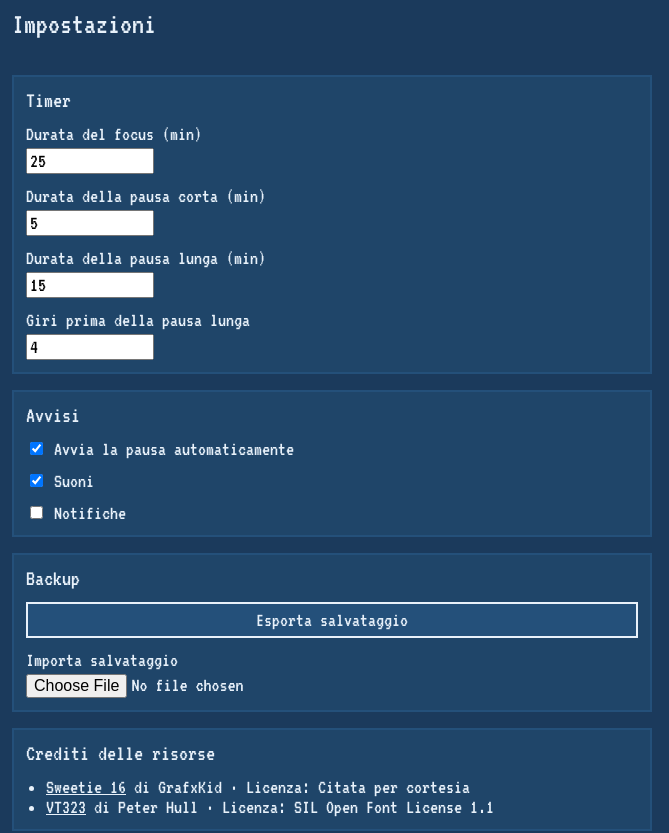
SettingsScreen › out-of-range duration is corrected
Replace the text in the number field labelled "Durata del focus (min)" with "0" at (90, 161), box [26,148,154,174]
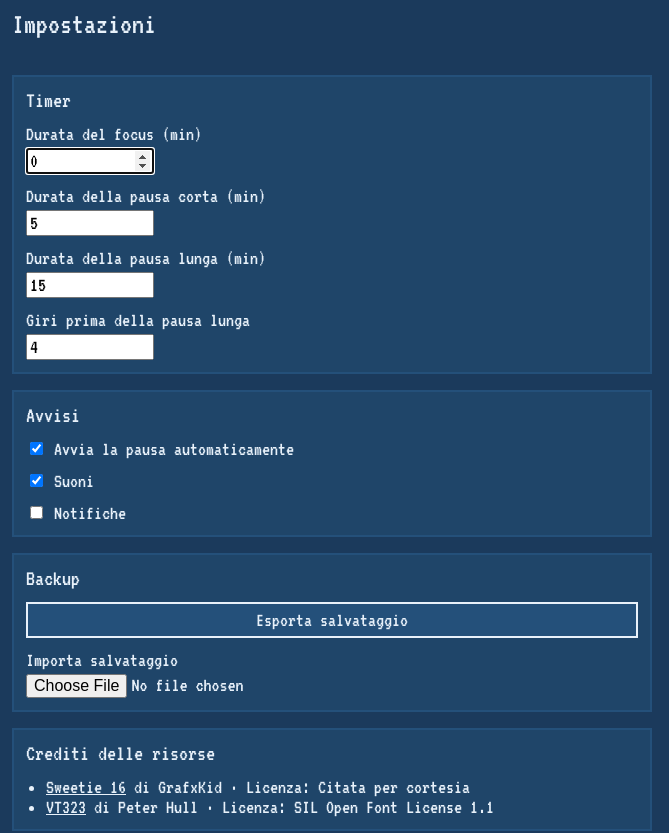
Press Tab
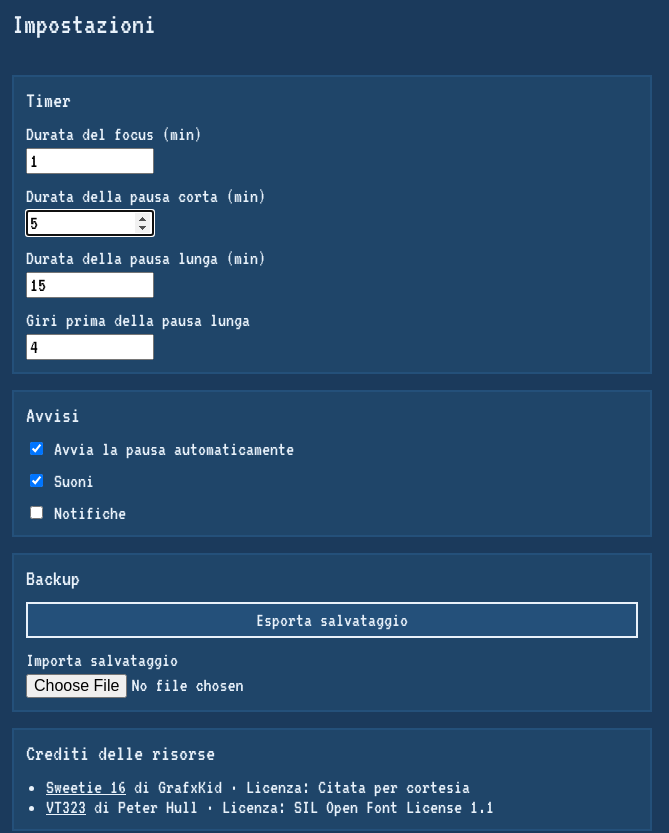
Now the number field labelled "Durata del focus (min)" holds "1", box [26,148,154,174]
